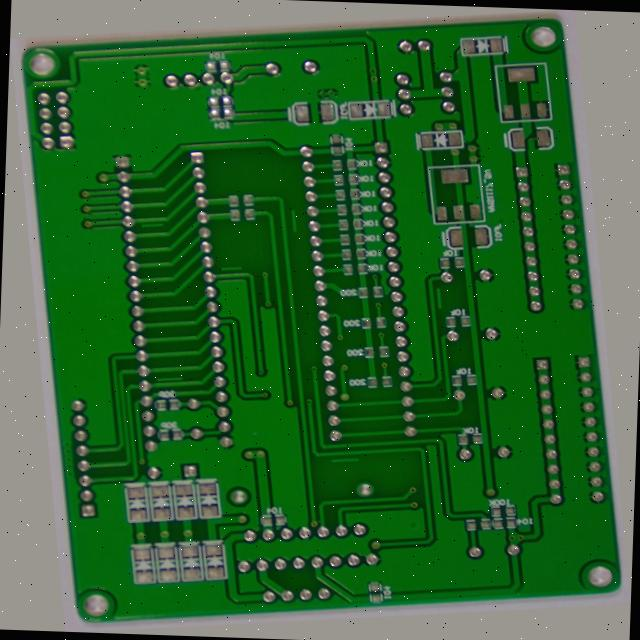spurious_copper: (293, 195, 315, 224), (210, 247, 243, 261), (448, 292, 464, 320), (124, 361, 158, 374), (129, 195, 160, 209), (309, 465, 346, 476)
